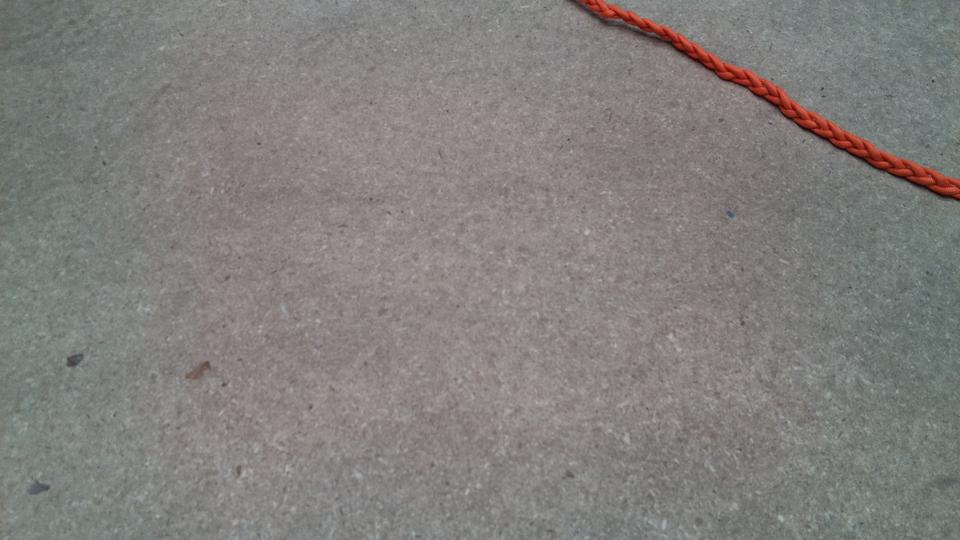rope: (596, 1, 960, 188)
